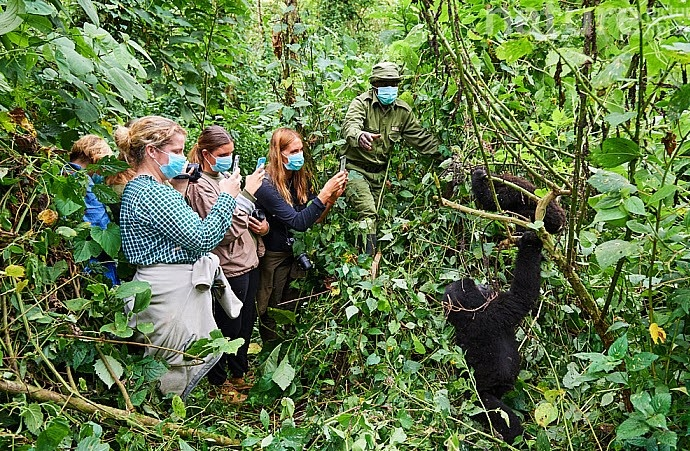with_mask: (125, 120, 191, 180), (195, 127, 237, 172), (269, 130, 306, 172), (368, 63, 400, 106)
